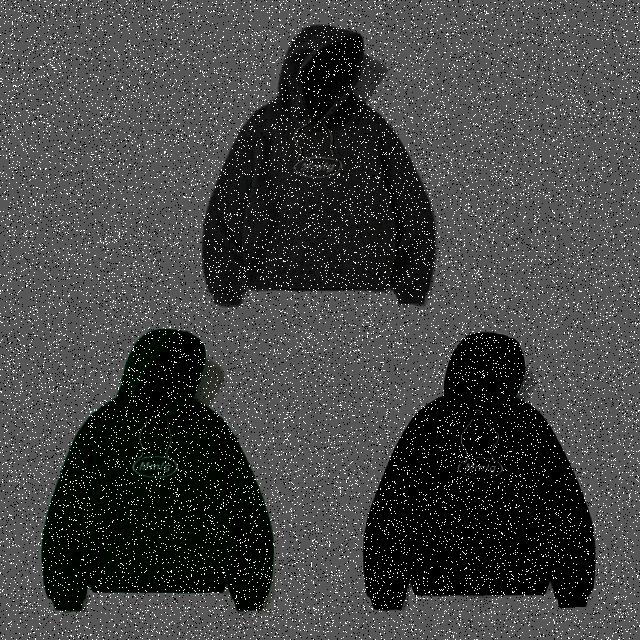Blouse_deep: (33, 316, 287, 620), (194, 12, 441, 316), (362, 322, 604, 618)
